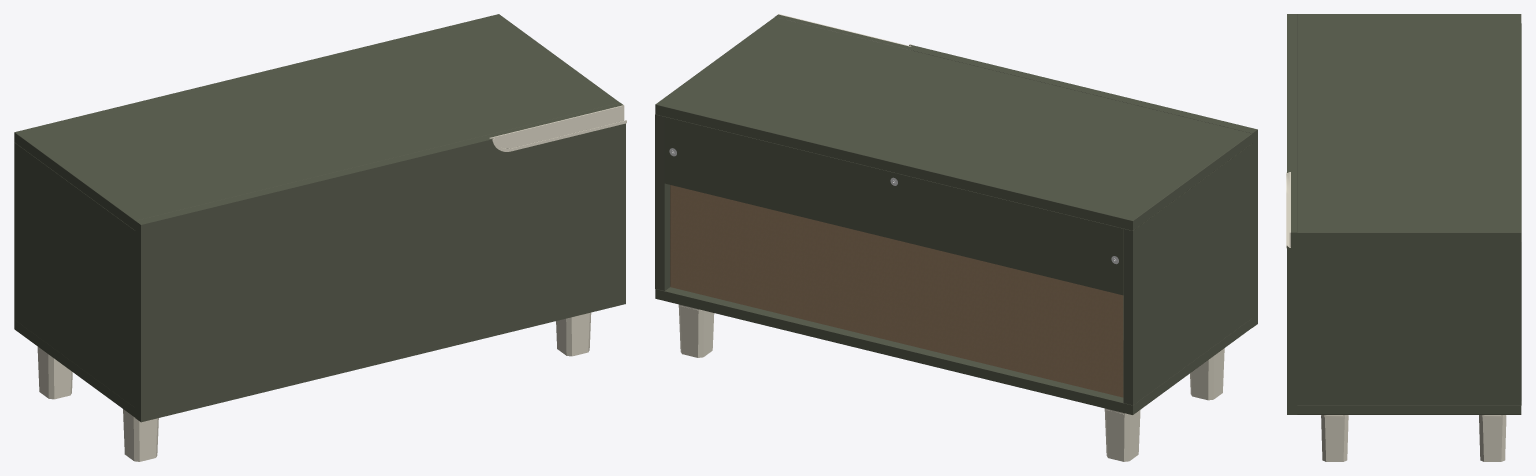
3 renders of one model, left to right at view 1: azimuth 30°, elevation 25°; view 2: azimuth 150°, elevation 25°; view 3: azimuth 270°, elevation 25°, orthographic. The views are drawn at different scales.
Parts seen in each view (by area): view 1: group_0.006, Cube.006, group_0.070, group_0.014, group_43, group_14.001, group_11, Cube.003; view 2: Cube.006, group_0.136, group_0.006, group_0.070, Cube.003, group_14.001, group_11.002, group_43; view 3: Cube.006, group_0.070, group_0.006, Cube.003, group_11, group_11.002, group_0.014.
Part boxes in pixels (box(x1,y1,x2,y2)): group_0.006: box(135, 102, 625, 422); Cube.006: box(14, 14, 619, 230); group_0.070: box(14, 142, 135, 407); group_0.014: box(489, 105, 626, 151); group_43: box(123, 409, 158, 461); group_14.001: box(37, 347, 72, 399); group_11: box(556, 312, 591, 356); Cube.003: box(14, 319, 135, 417); Cube.006: box(655, 17, 1252, 230); group_0.136: box(670, 185, 1123, 397); group_0.006: box(655, 14, 1257, 405); group_0.070: box(655, 114, 1252, 405); Cube.003: box(655, 287, 1252, 414); group_14.001: box(1104, 408, 1140, 461); group_11.002: box(678, 304, 714, 357); group_43: box(1190, 348, 1224, 400); Cube.006: box(1297, 14, 1521, 241); group_0.070: box(1297, 242, 1521, 405); group_0.006: box(1287, 14, 1521, 414); Cube.003: box(1297, 405, 1521, 414); group_11: box(1321, 415, 1348, 461); group_11.002: box(1479, 415, 1506, 461); group_0.014: box(1286, 172, 1290, 248).
Size of the model in its own units: 0.9012 by 0.4529 by 0.4094.
5 materials, 1 textured.
